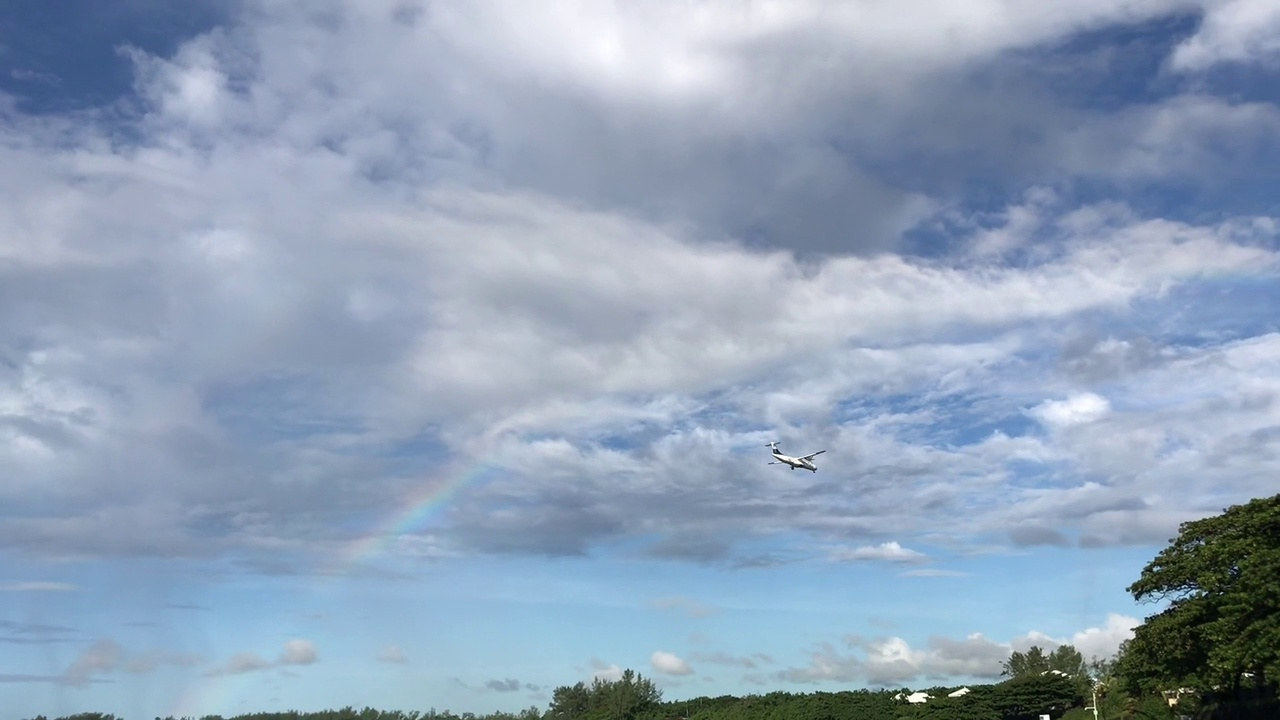plane: (764, 441, 826, 472)
